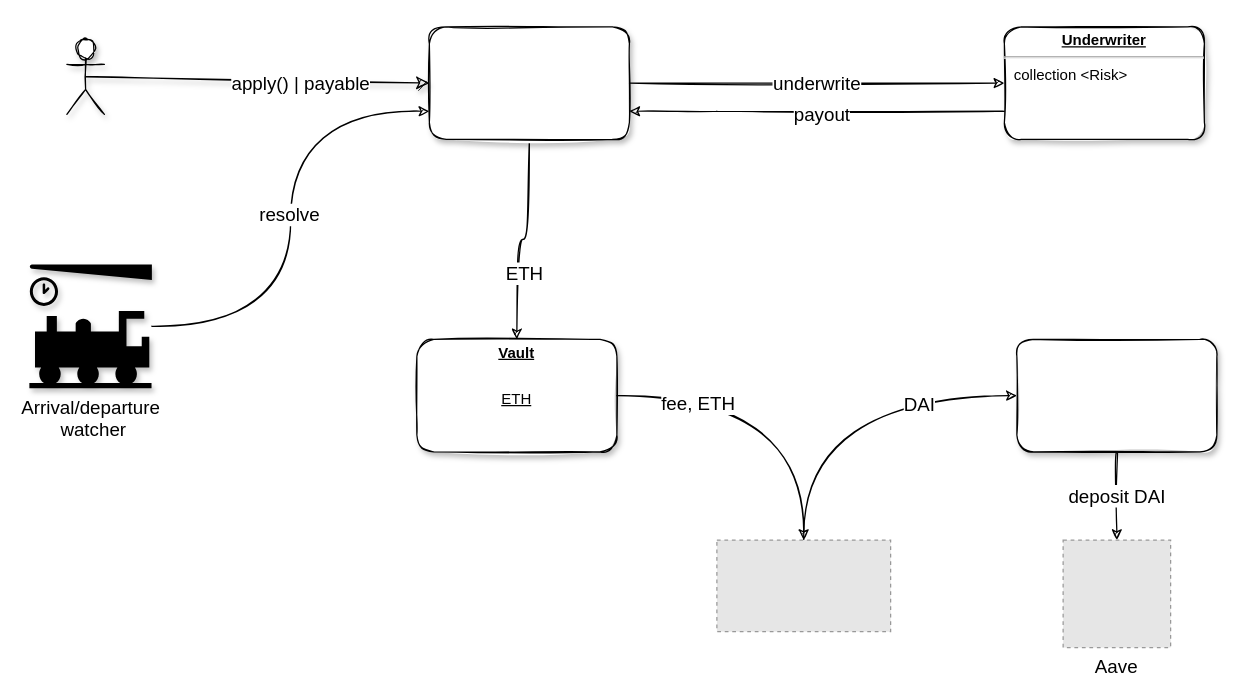
Some shapes in this 1246 by 699 pixel diagram are drawn without their labels. Grey dashed boxes stand in for pictures. Each missing label, with the centre of its shape:
"ReInsuranceVault aDAI" belongs at point (1117, 397).
"TrainDelay applyForPolicy() claimTripDelegated()" belongs at point (530, 84).
